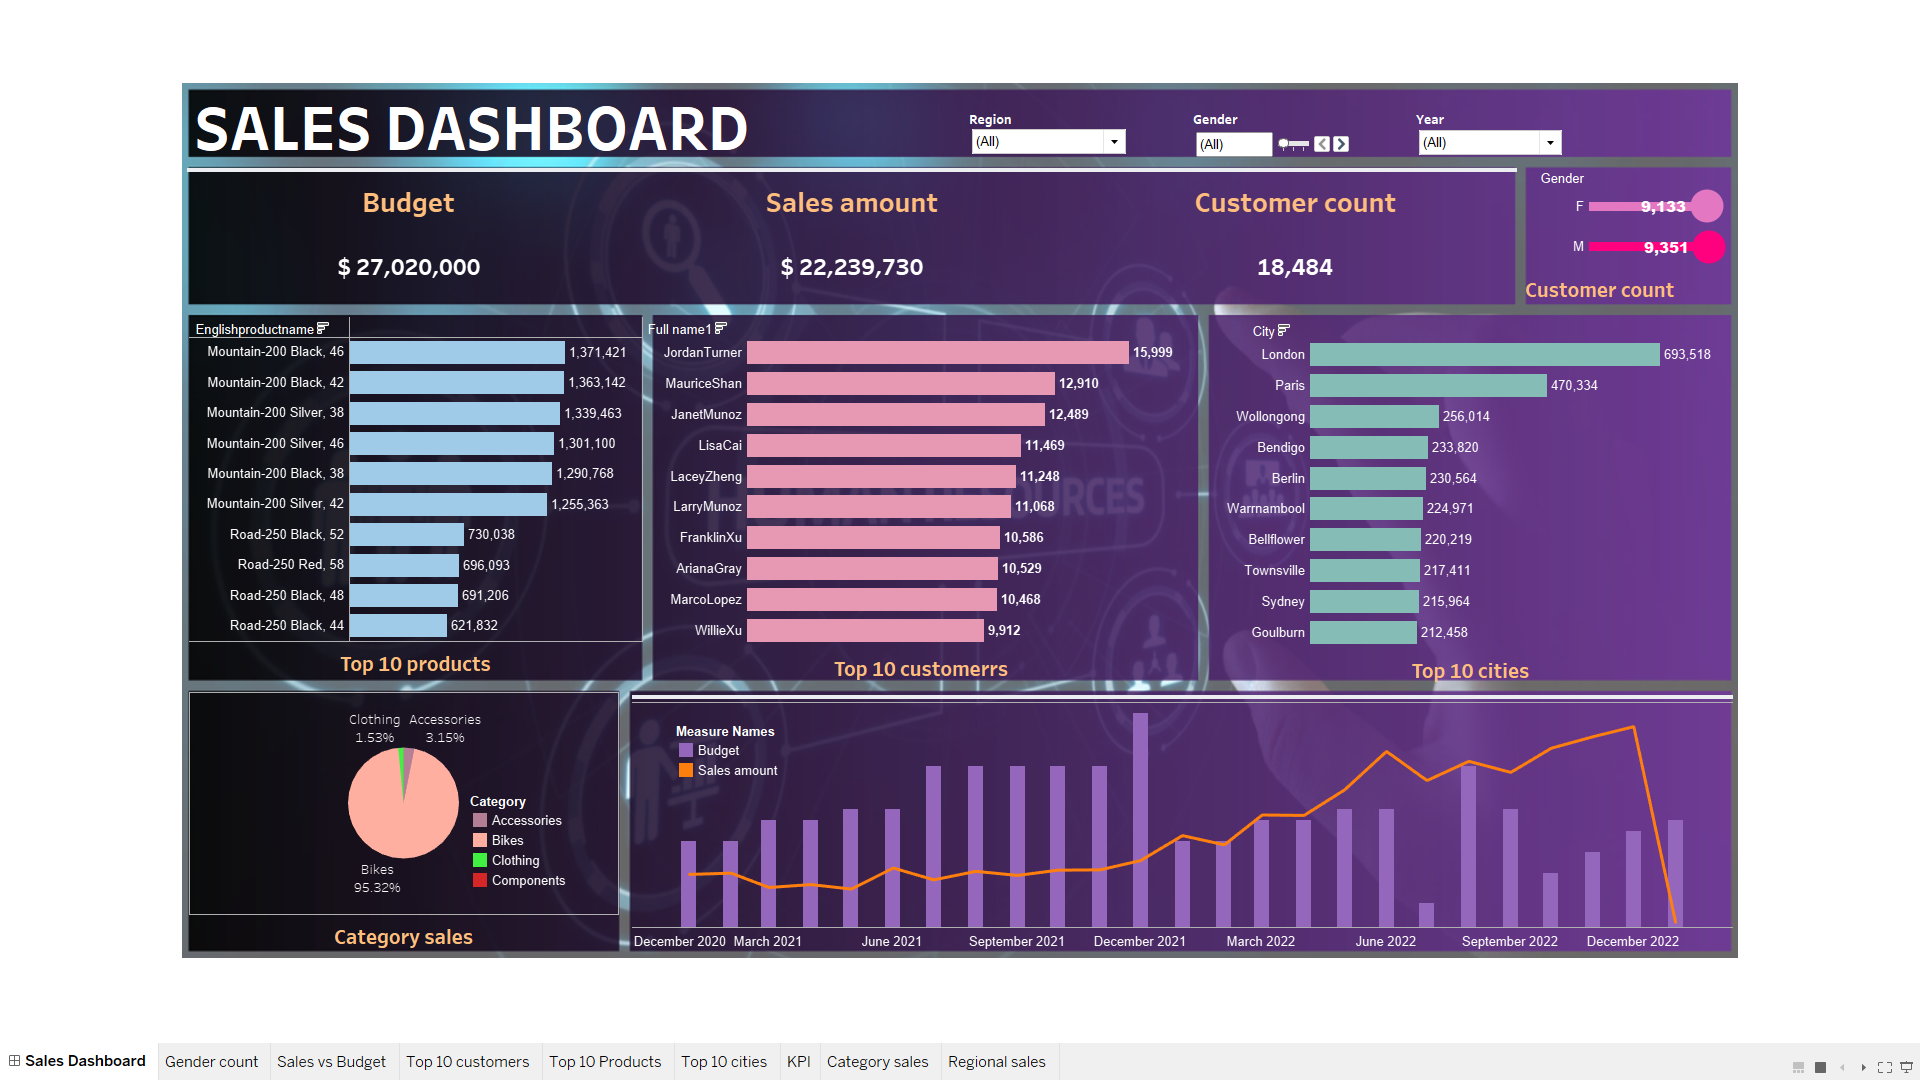

This screenshot's page, from the dashboard's own definition file:
{"tool":"tableau","page":{"name":"Sales Dashboard ","canvas":[1580,900],"ordinal":0},"visuals":[{"type":"image","param":"C:/Users/bharath/Downloads/HR background.pptx (1).png","box":[8,8,1564,884]},{"type":"text","box":[21,22,598,65]},{"type":"filter","title":"Top 10 Products","param":"[federated.00m9e9y06x3szh1cngoo20n0k0k1].[none:englishcountryregionname:nk]","box":[799,39,160,45]},{"type":"filter","title":"Top 10 Products","param":"[federated.00m9e9y06x3szh1cngoo20n0k0k1].[none:gender:nk]","box":[1023,39,160,51]},{"type":"filter","title":"Top 10 Products","param":"[federated.00m9e9y06x3szh1cngoo20n0k0k1].[yr:date:ok]","box":[1246,39,149,46]},{"type":"worksheet","title":"Gender count","mark":"Circle","rows":["gender"],"cols":["customerkey (Customer)","customerkey (Customer)"],"box":[1355,95,207,136]},{"type":"worksheet","title":"KPI","mark":"Automatic","box":[17,97,1330,136]},{"type":"worksheet","title":"Top 10 Products","mark":"Automatic","rows":["englishproductname"],"cols":["salesamount"],"box":[19,246,454,360]},{"type":"worksheet","title":"Top 10 customers","mark":"Automatic","rows":["Full name"],"cols":["salesamount"],"box":[477,246,549,364]},{"type":"worksheet","title":"Top 10 cities","mark":"Automatic","rows":["city"],"cols":["salesamount"],"box":[1040,248,522,364]},{"type":"worksheet","title":"Category sales","mark":"Pie","box":[19,621,430,258]},{"type":"worksheet","title":"Sales vs Budget","mark":"Automatic","rows":["budget","salesamount"],"cols":["date"],"box":[462,624,1101,263]},{"type":"legend","title":"Sales vs Budget","param":"[federated.00m9e9y06x3szh1cngoo20n0k0k1].[:Measure Names]","box":[506,653,140,56]},{"type":"legend","title":"Category sales","param":"[federated.00m9e9y06x3szh1cngoo20n0k0k1].[none:englishproductcategoryname:nk]","box":[300,723,140,107]}]}

Visuals, with their boxes on the page's 1580x900 design canvas (x1, y1, x2, y2). These are canvas units, not pixel positions in the 1920x1080 screenshot, which may show the page scaled, cropped or inside an application window:
image: bbox=[8, 8, 1572, 892]
text: bbox=[21, 22, 619, 87]
"Top 10 Products" filter: bbox=[799, 39, 959, 84]
"Top 10 Products" filter: bbox=[1023, 39, 1183, 90]
"Top 10 Products" filter: bbox=[1246, 39, 1395, 85]
"Gender count" worksheet (Circle marks): bbox=[1355, 95, 1562, 231]
"KPI" worksheet: bbox=[17, 97, 1347, 233]
"Top 10 Products" worksheet: bbox=[19, 246, 473, 606]
"Top 10 customers" worksheet: bbox=[477, 246, 1026, 610]
"Top 10 cities" worksheet: bbox=[1040, 248, 1562, 612]
"Category sales" worksheet (Pie marks): bbox=[19, 621, 449, 879]
"Sales vs Budget" worksheet: bbox=[462, 624, 1563, 887]
"Sales vs Budget" legend: bbox=[506, 653, 646, 709]
"Category sales" legend: bbox=[300, 723, 440, 830]
